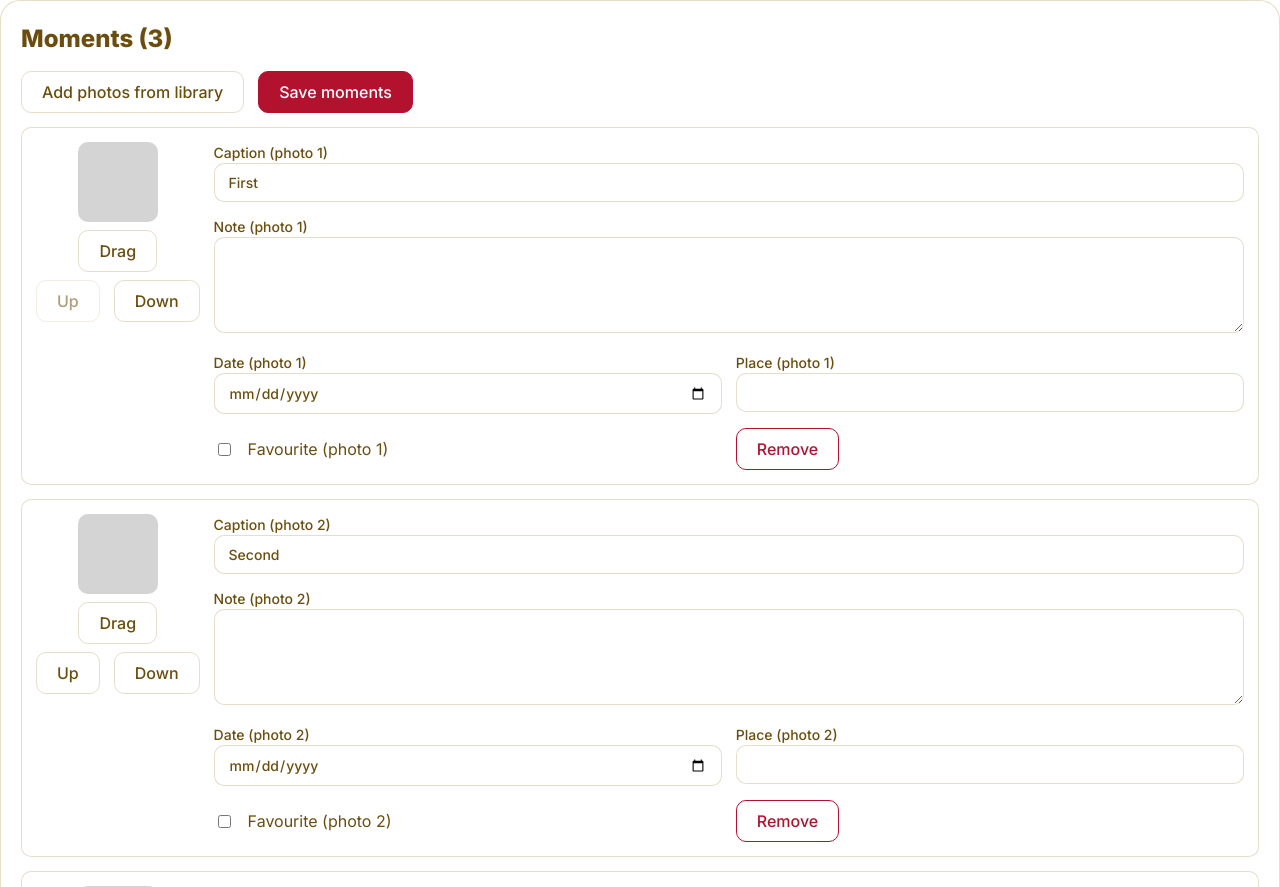
MomentsEditor › removing a moment drops it from the payload
Expected: the field labelled "Caption (photo 1)" is shown, 214,163 -> 1244,202
Click the button with aria-label "Remove (photo 2)": {"x": 788, "y": 821} 736,800 -> 839,842
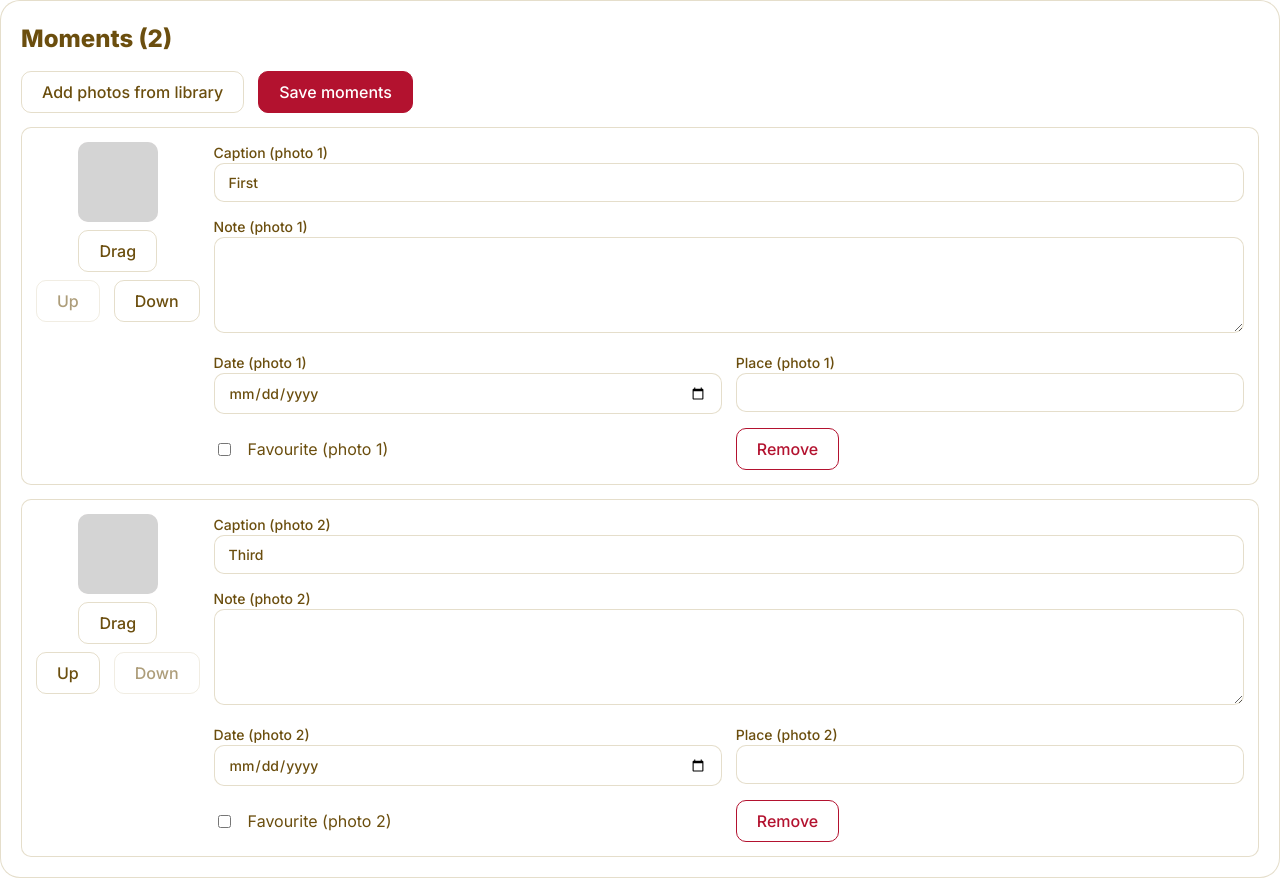
Click the button "Save moments": {"x": 336, "y": 92} 258,71 -> 413,113
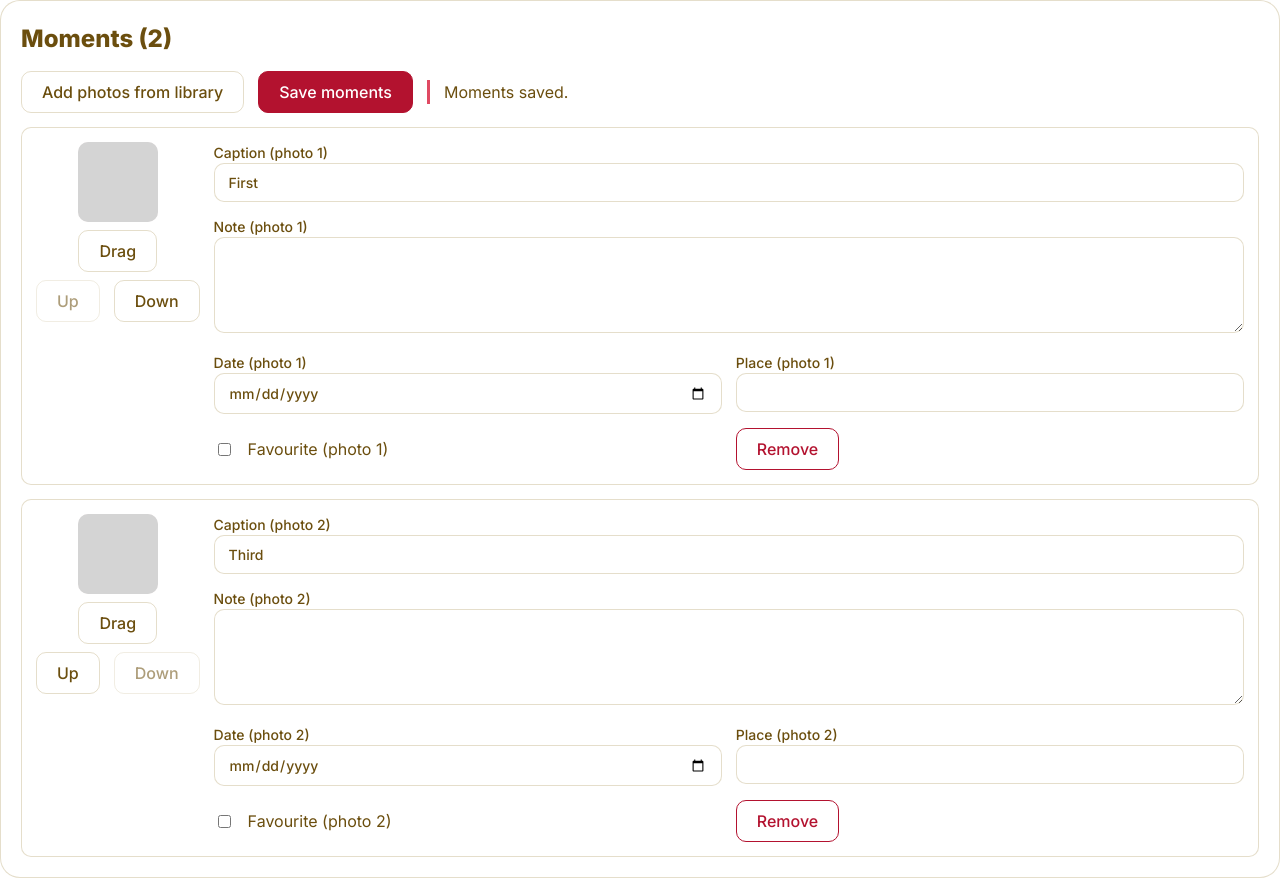
Expected: the text "Moments saved." is shown, 427,80 -> 568,104
